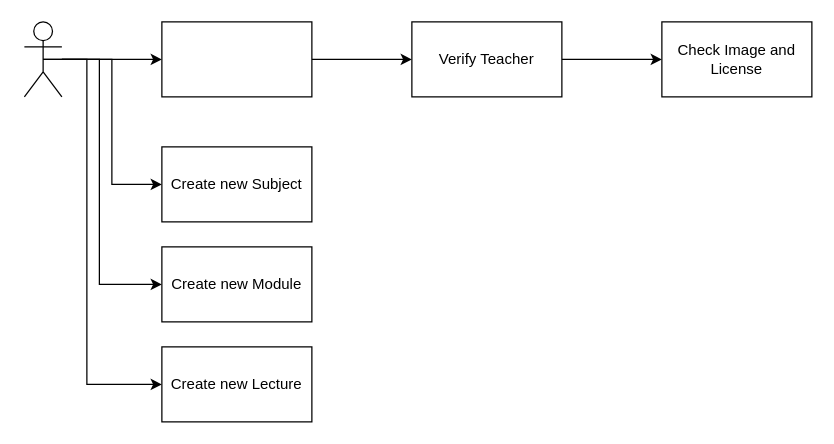
Image size: 834x444. Some labels were removed from this diagram. The shapes that lost their labels are listed below. From the top down, each one's box as (x1, y1, x2, y2) in pixels, then its label:
(23, 21, 62, 97): Admin
(161, 21, 312, 97): Access Dashboard
